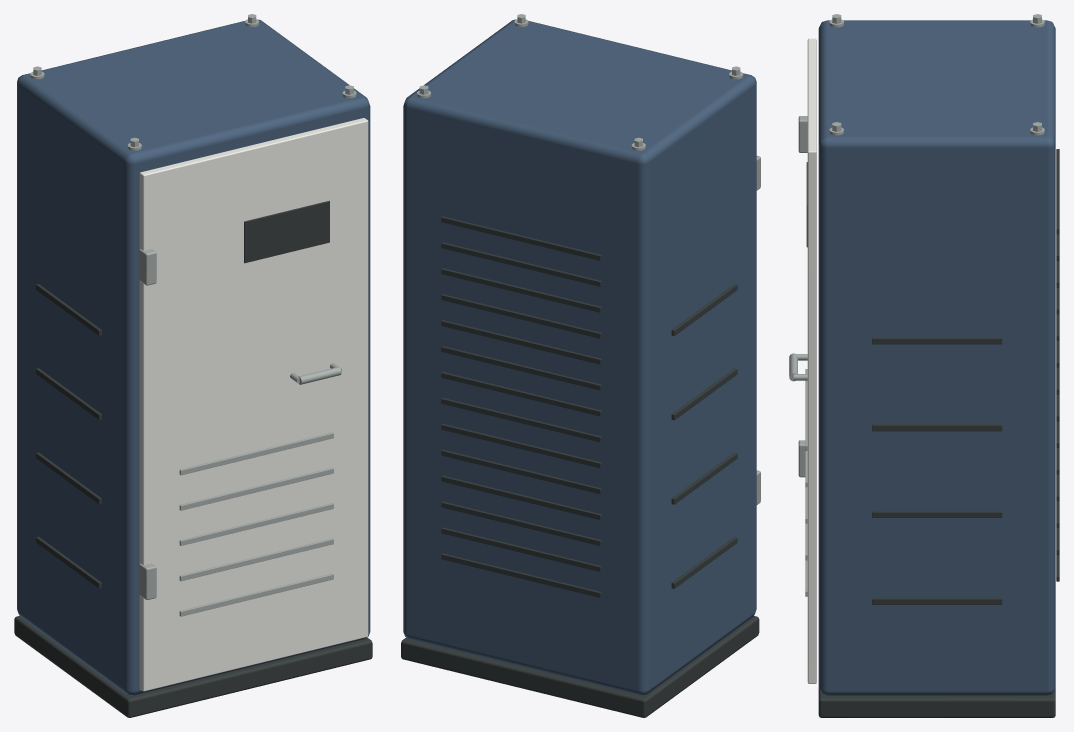
File: painel.glb
The picture shows the model from 3 angles, left to right: view 1: azimuth 30°, elevation 25°; view 2: azimuth 150°, elevation 25°; view 3: azimuth 270°, elevation 25°; orthographic projection. The views are drawn at different scales.
Visible parts, largest first — view 1: spacecraft-parachute-packing-hall-conditioning-cabinet; view 2: spacecraft-parachute-packing-hall-conditioning-cabinet; view 3: spacecraft-parachute-packing-hall-conditioning-cabinet.
Part boxes in pixels (bbox=[...]): spacecraft-parachute-packing-hall-conditioning-cabinet: bbox=[14, 14, 372, 717]; spacecraft-parachute-packing-hall-conditioning-cabinet: bbox=[401, 14, 760, 717]; spacecraft-parachute-packing-hall-conditioning-cabinet: bbox=[789, 14, 1059, 717].
Bounding box in the file's own units: 0.822 × 1.77 × 0.7404.
